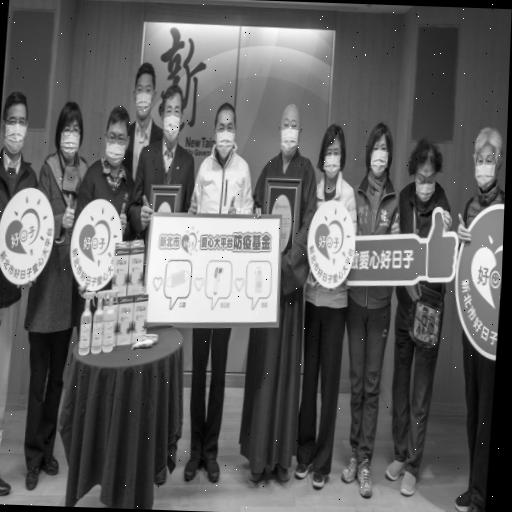mask: (404, 136, 443, 202), (469, 126, 504, 193), (52, 98, 86, 166), (0, 90, 33, 159), (100, 102, 133, 170), (361, 122, 396, 180), (209, 102, 242, 162), (156, 81, 188, 142), (317, 122, 349, 182), (275, 102, 305, 158), (130, 60, 158, 120)
